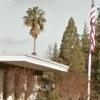Tree: (21, 5, 81, 52)
